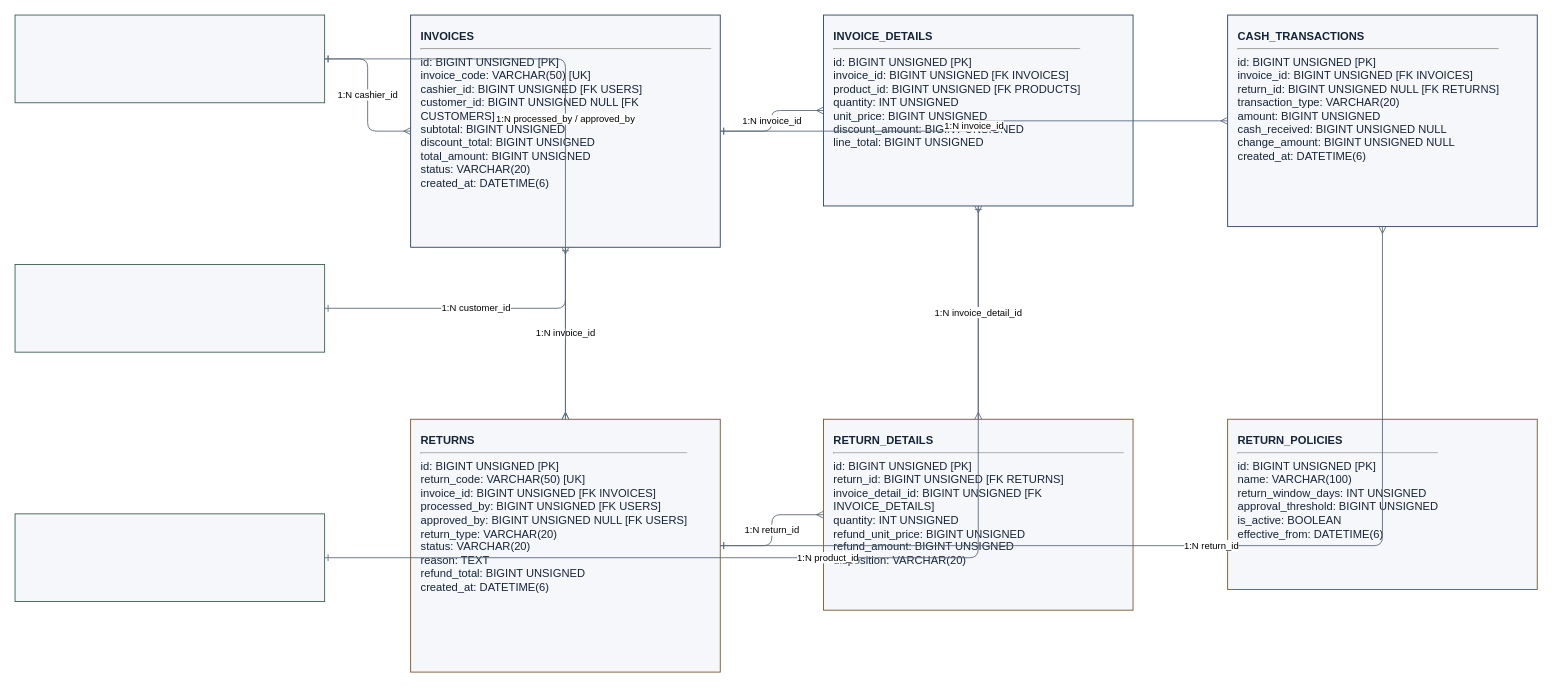
Image size: 1552x687. Some labels were removed from this diagram. The box of each missing label's shape, as (x1, y1, x2, y2) in pixels:
CUSTOMERS id: BIGINT UNSIGNED [PK] phone: VARCHAR(30) [UK]: (14, 264, 325, 352)
PRODUCTS id: BIGINT UNSIGNED [PK] name: VARCHAR(200): (14, 513, 325, 602)
USERS id: BIGINT UNSIGNED [PK] username: VARCHAR(100) [UK]: (14, 14, 325, 103)
